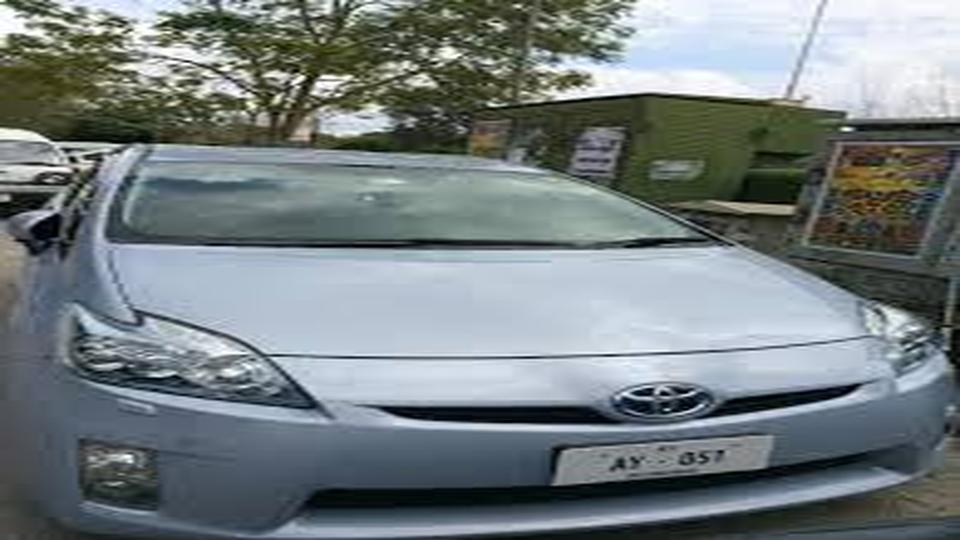NumberPlate: (553, 428, 780, 481)
